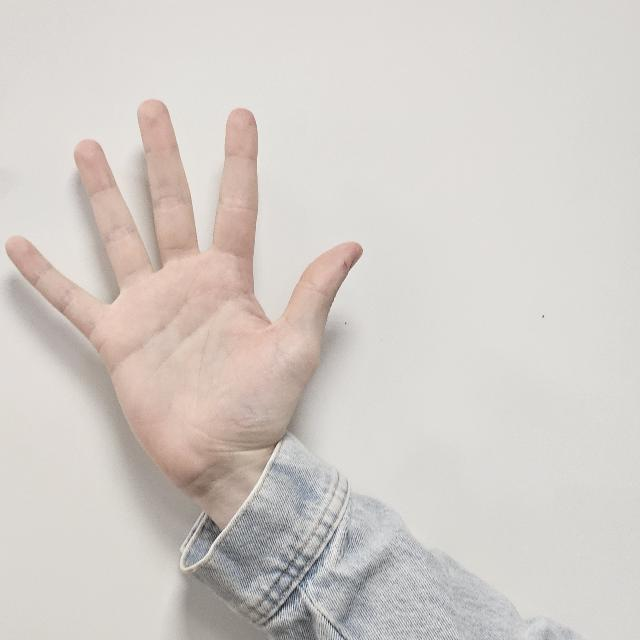X: (6, 96, 364, 490)
